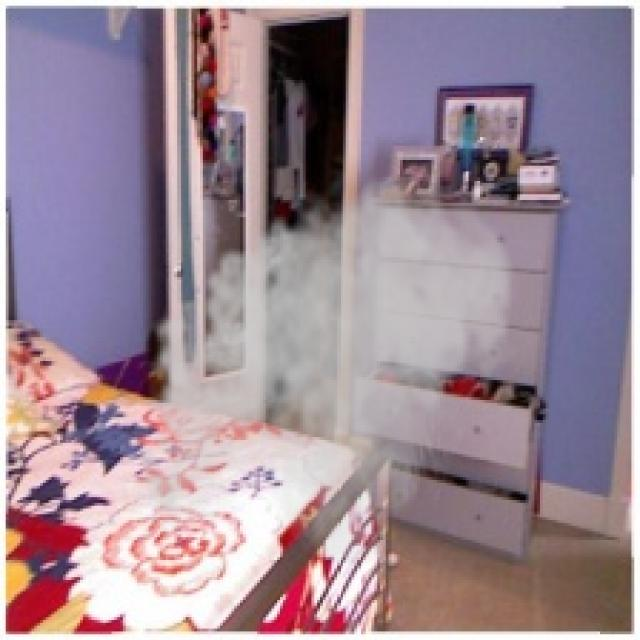smoke: (126, 163, 523, 563)
